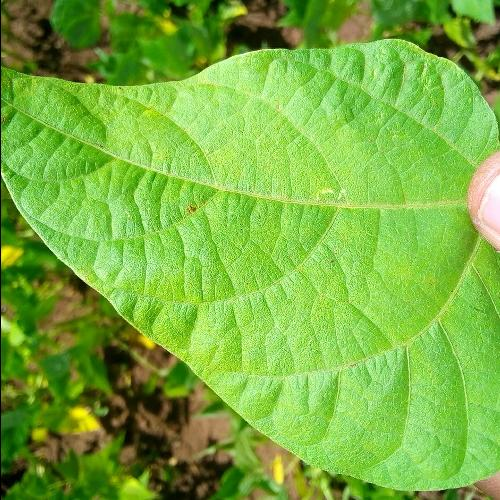sehat: (0, 45, 496, 490)
